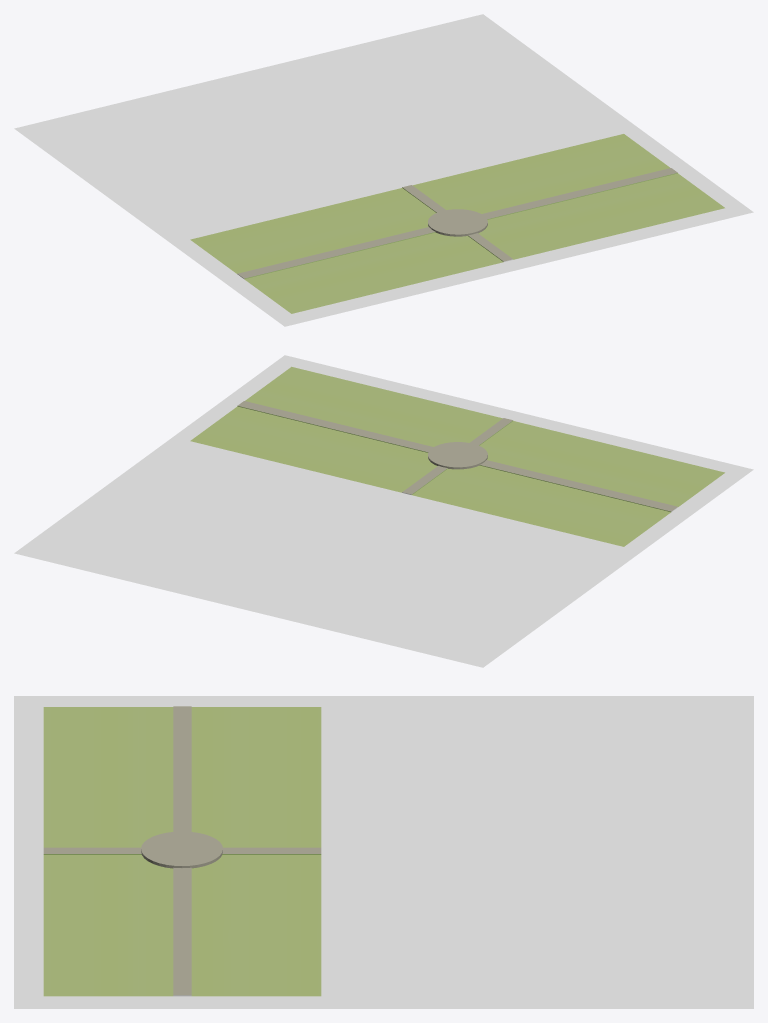
File: park_plane.fbx
3 renders of one model, top to bottom at view 1: azimuth 30°, elevation 25°; view 2: azimuth 150°, elevation 25°; view 3: azimuth 270°, elevation 25°, orthographic. The views are drawn at different scales.
Visible parts, largest first — view 1: Plane.002; view 2: Plane.002; view 3: Plane.002.
Boxes of the visible parts, x1,y1,x2,y2 form: Plane.002: (14, 14, 753, 326); Plane.002: (14, 355, 753, 667); Plane.002: (14, 696, 753, 1008).
Bounding box in the file's own units: 8000 × 79.57 × 8000.
